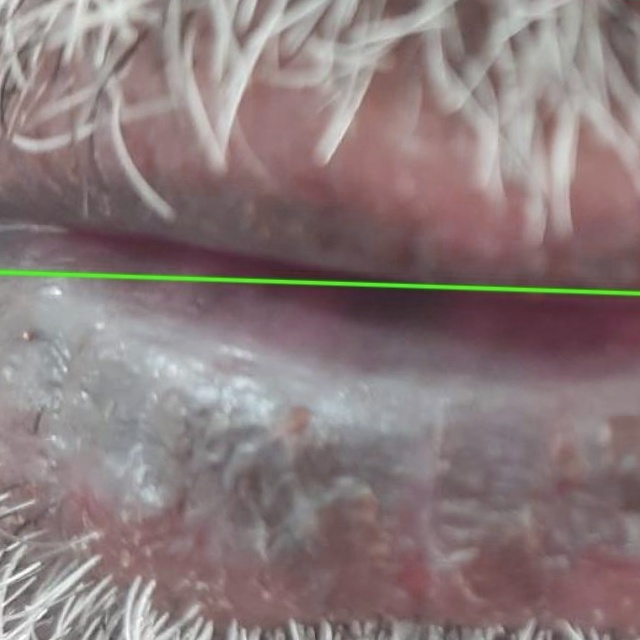Contact Dermatitis: (0, 0, 639, 294)
